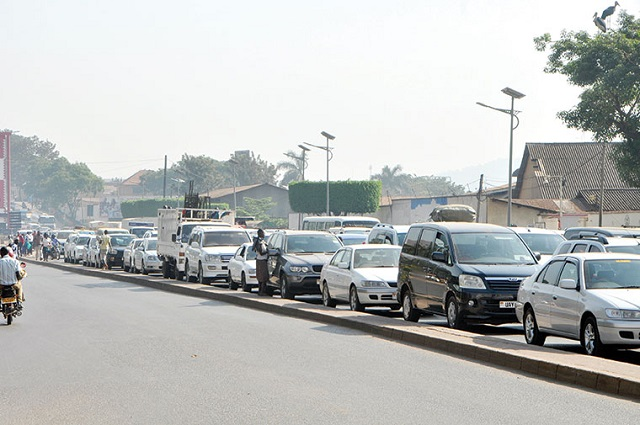car: (397, 223, 540, 330), (521, 254, 640, 351), (263, 230, 348, 307), (322, 246, 407, 313), (188, 231, 252, 283), (123, 239, 162, 275)
